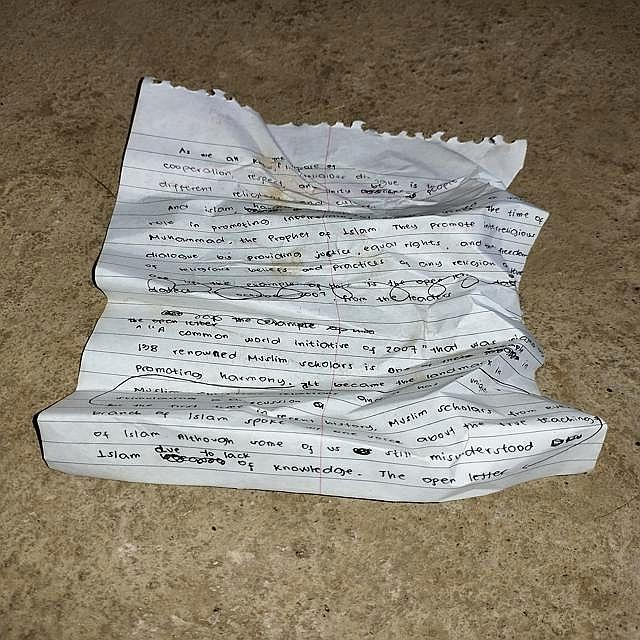Biodegradable: (22, 74, 628, 508)
